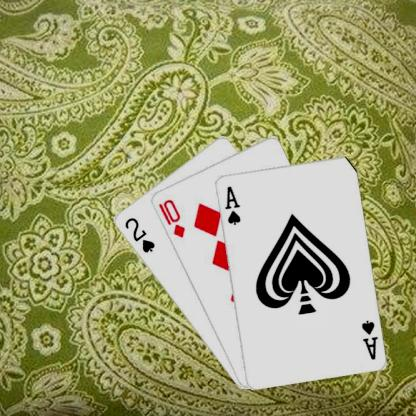10D: (156, 196, 186, 239)
2S: (121, 214, 156, 254)
AS: (358, 317, 378, 361), (222, 183, 241, 226)
